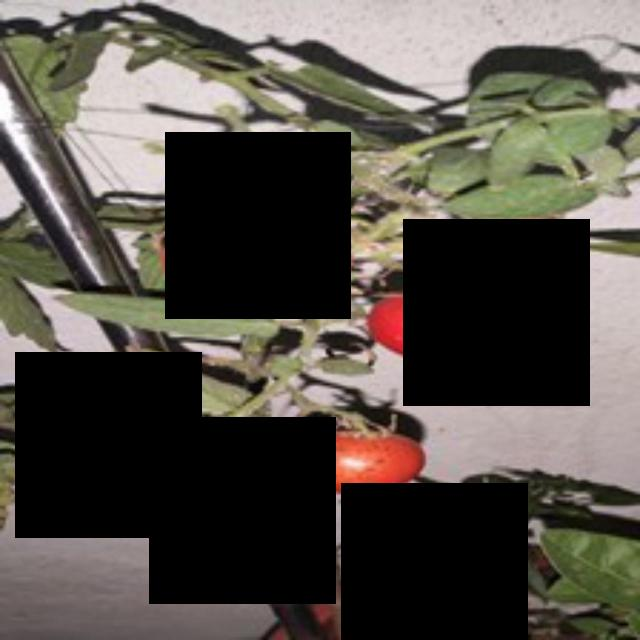tomato: (160, 220, 363, 317), (292, 430, 423, 493)
